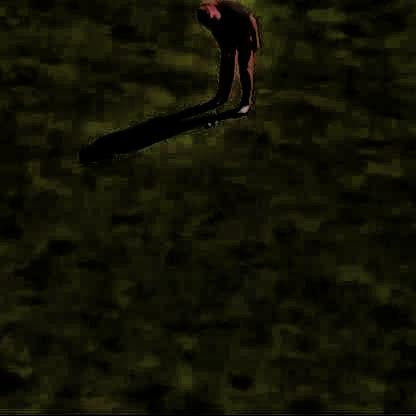golfball: (203, 119, 210, 129)
